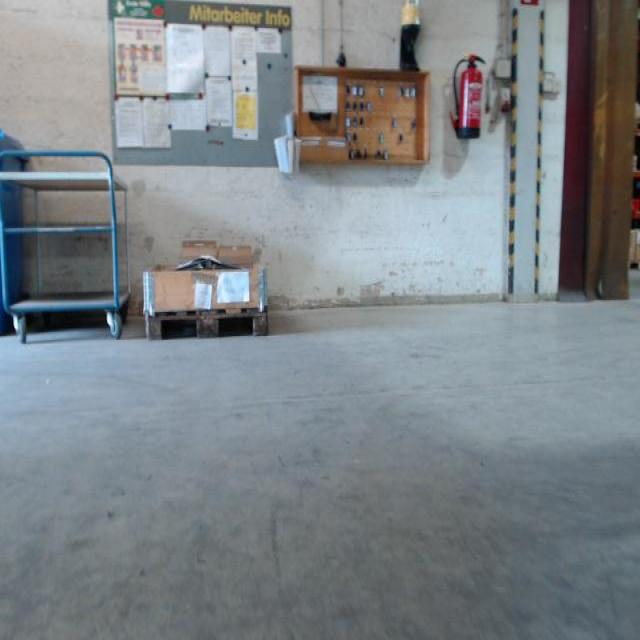pallet: (144, 305, 271, 342)
